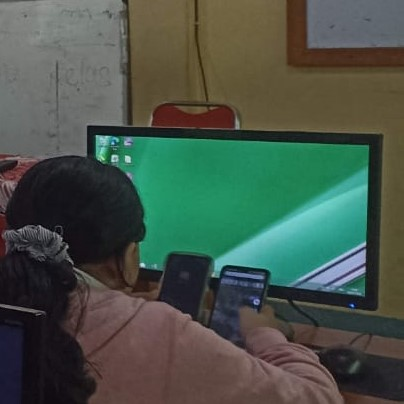monitor: (87, 125, 384, 312), (207, 264, 271, 348), (0, 303, 46, 399)
